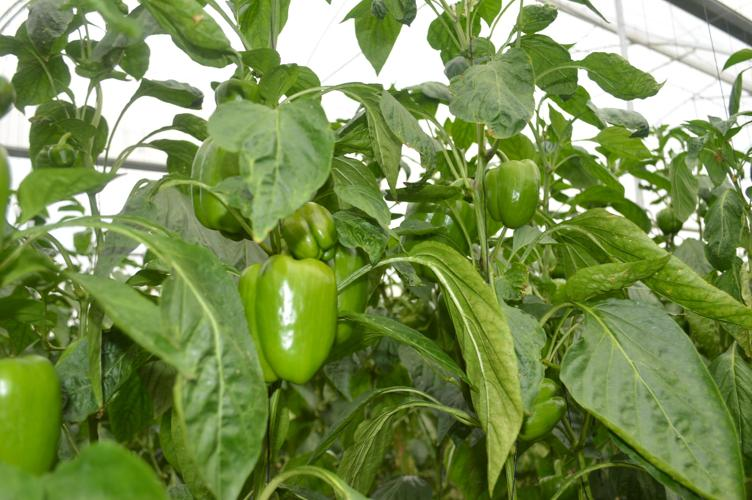BellPepper: (236, 253, 367, 376), (2, 355, 72, 468), (181, 140, 257, 241), (398, 191, 479, 274), (267, 201, 345, 262), (484, 157, 545, 229)
